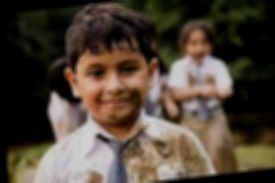earth: (136, 152, 160, 182), (169, 136, 193, 159), (126, 143, 142, 159), (87, 172, 103, 183)
